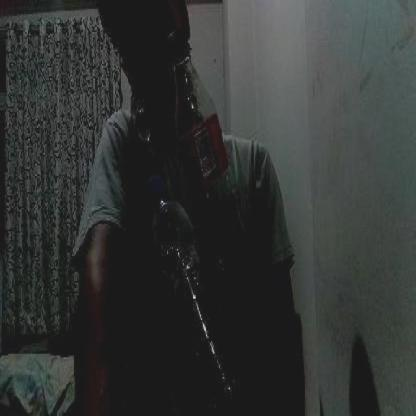plastic_bottles: (146, 171, 252, 412), (165, 25, 249, 290)
